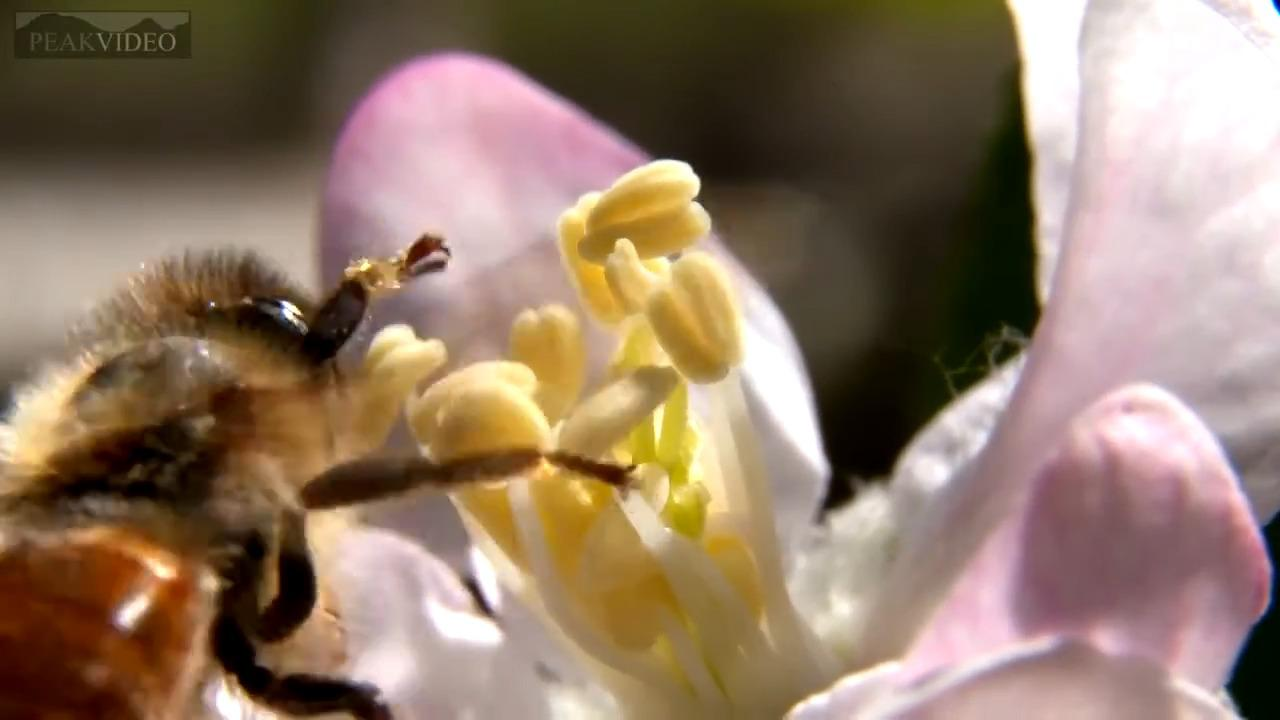bee: (0, 282, 350, 720)
